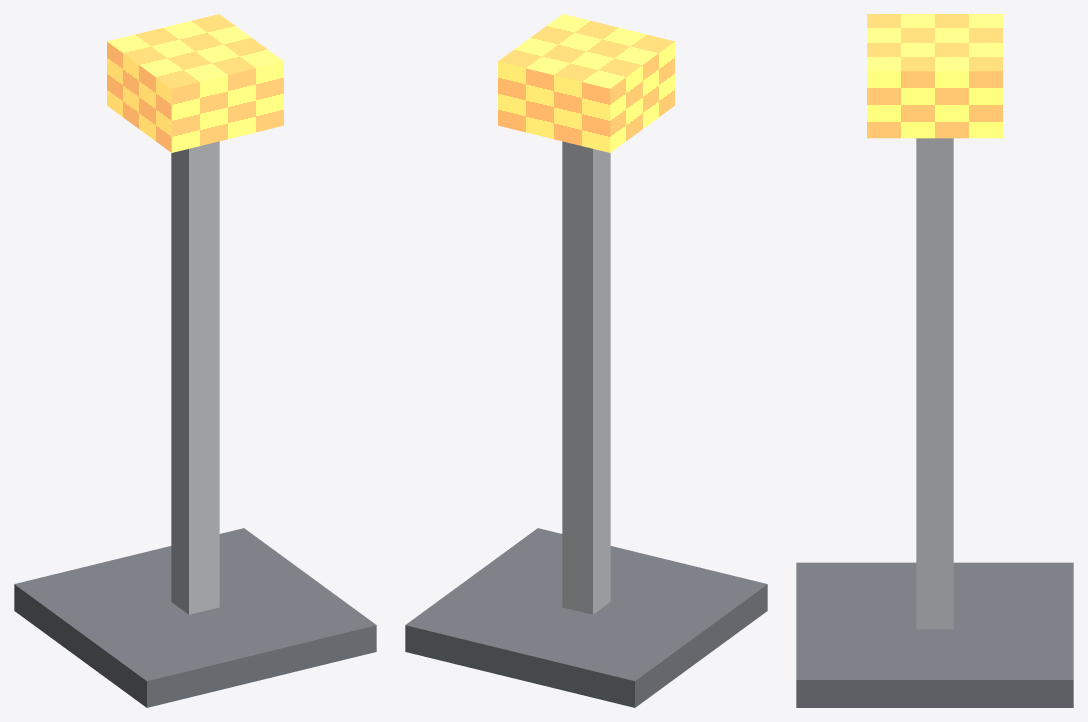
Rendered from beacon.gltf.
3 renders of one model, left to right at view 1: azimuth 30°, elevation 25°; view 2: azimuth 150°, elevation 25°; view 3: azimuth 270°, elevation 25°, orthographic. The views are drawn at different scales.
Size of the model in its own units: 0.9 by 2.17 by 0.9.
Materials: 3 (1 with a texture image).
